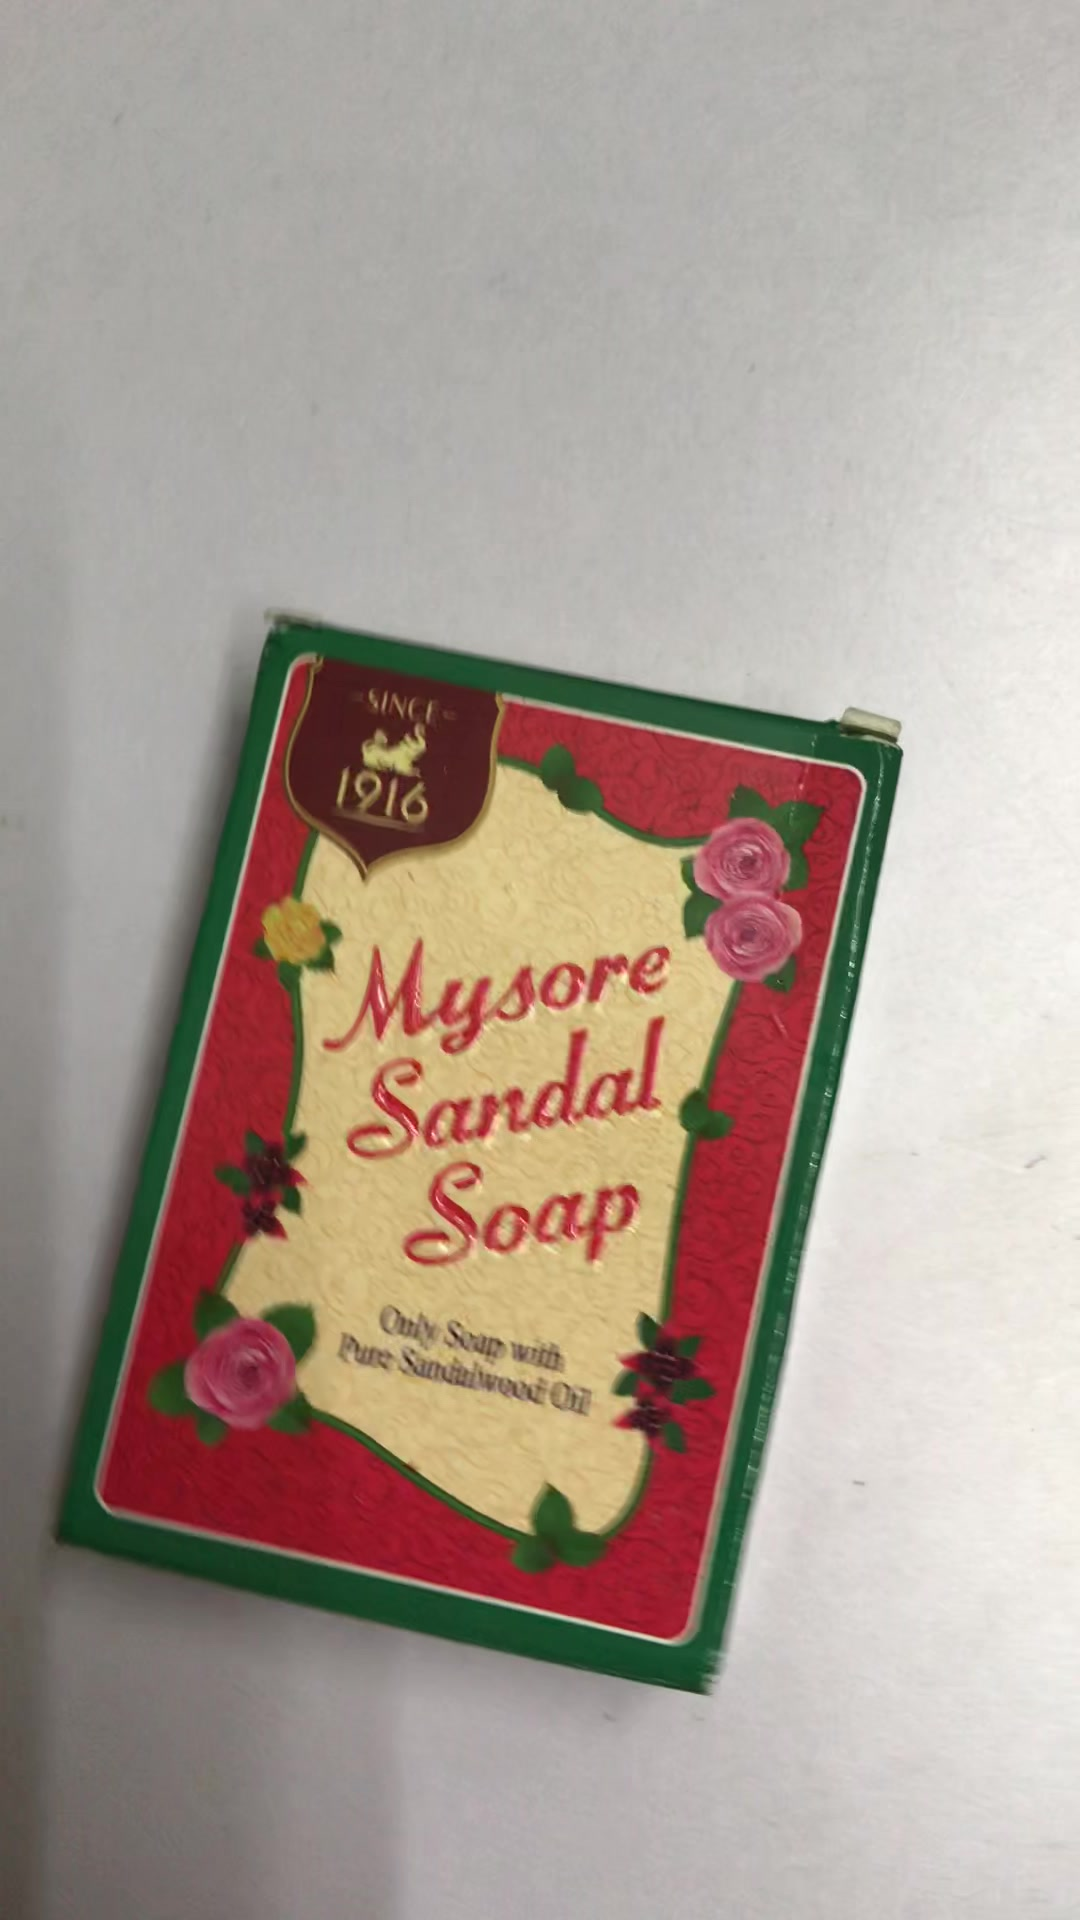mysore sandal soap: (55, 613, 903, 1704)
